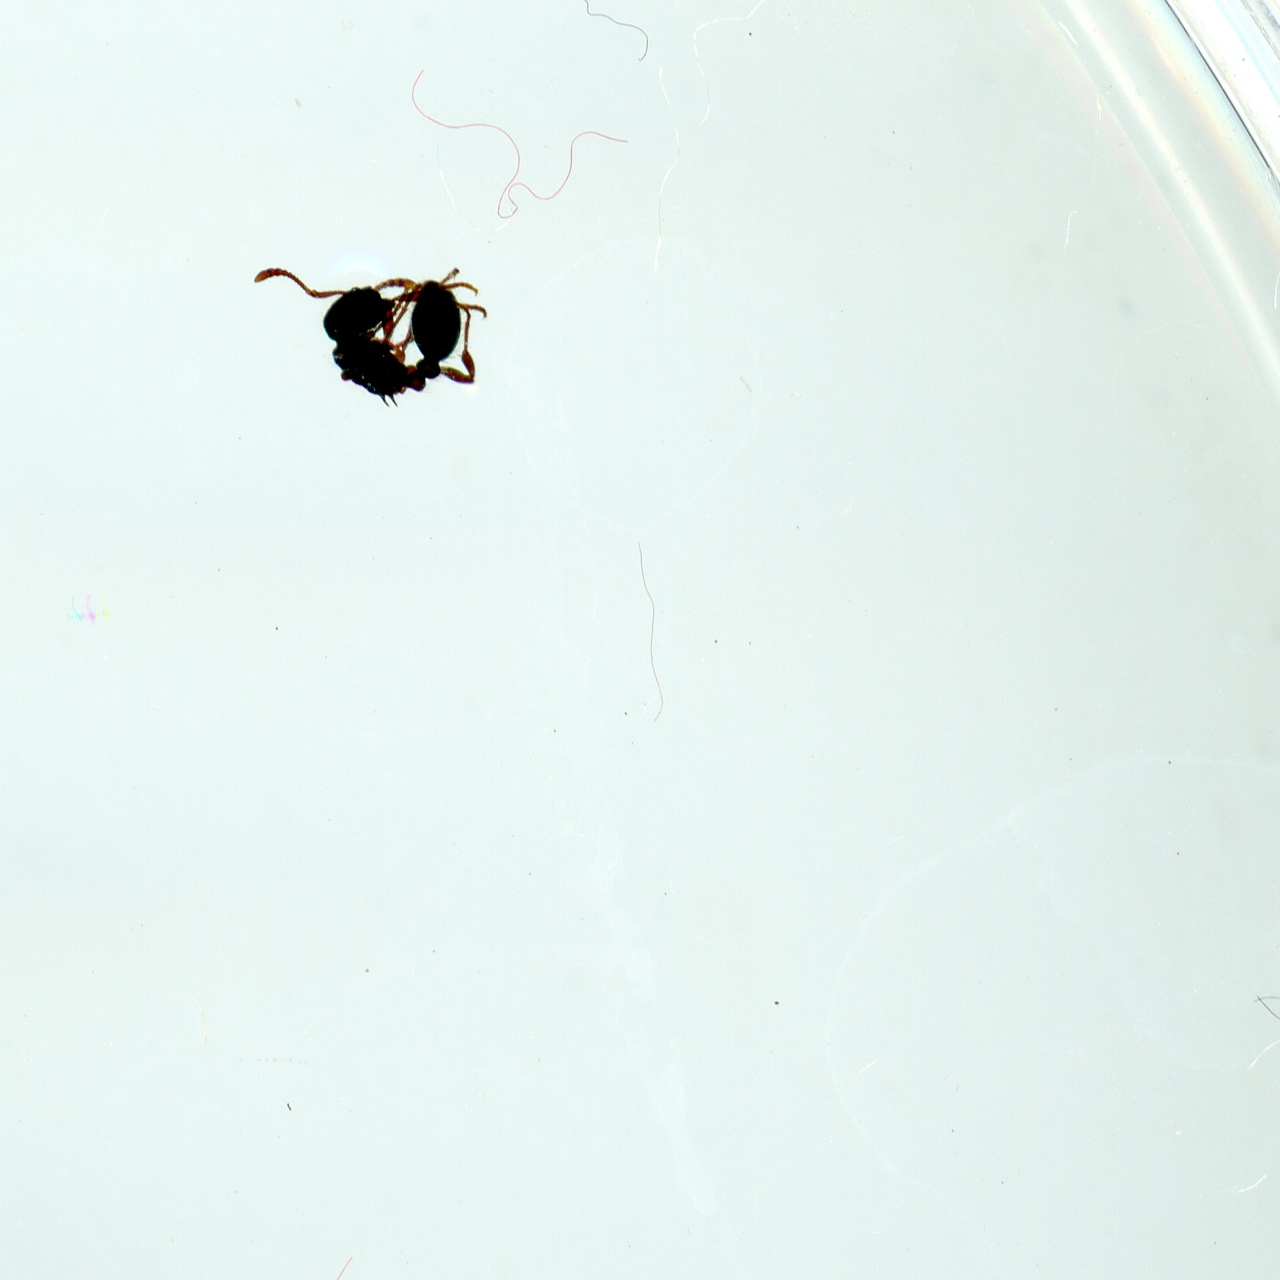arthropod: (253, 260, 506, 419)
